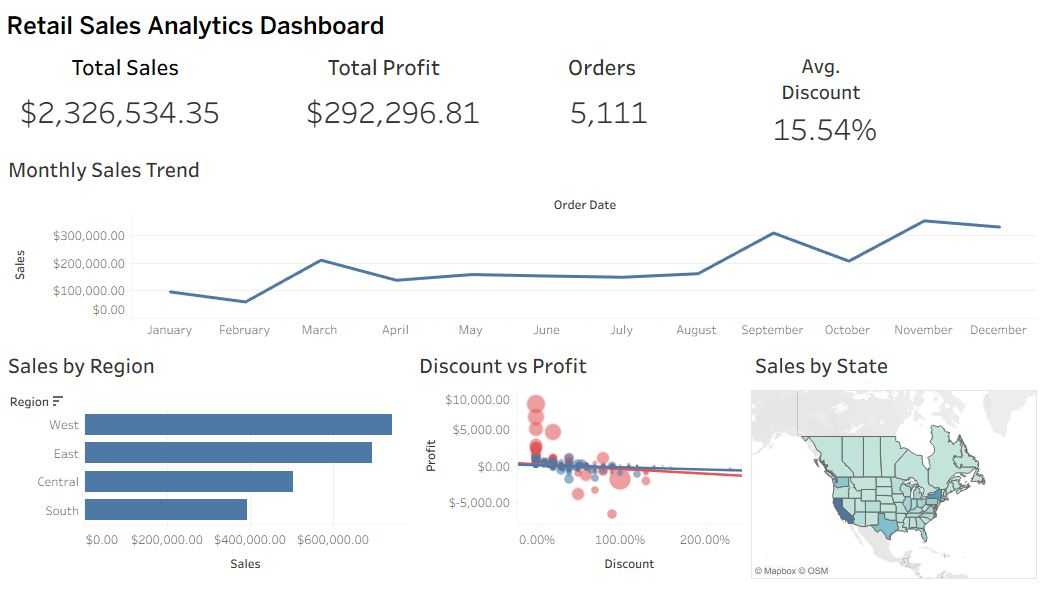

Layout of this report page (visuals, bound fields, positions):
{"tool":"tableau","page":{"name":"Dashboard 3","canvas":[1000,1000],"units":"permille","ordinal":0},"visuals":[{"type":"title","box":[7.4,13.5,955.9,62.5]},{"type":"filter","title":"Sales by Region","param":"[federated.1cxbya21p809c611jwfkw1vmpjc6].[none:Order Year:qk]","box":[963.3,13.5,29.4,116.5]},{"type":"worksheet","title":"KPI-Total Sales","mark":"Automatic","box":[7.4,76,256.7,174]},{"type":"worksheet","title":"KPI-Total Profit","mark":"Automatic","box":[264.1,76,246.6,174]},{"type":"worksheet","title":"KPI-Total Orders","mark":"Automatic","box":[510.7,76,191.9,174]},{"type":"worksheet","title":"Average Discount","mark":"Automatic","box":[702.6,76,260.7,174]},{"type":"filter","title":"Sales by Region","param":"[federated.1cxbya21p809c611jwfkw1vmpjc6].[none:Region:nk]","box":[963.3,130.1,29.4,214.5]},{"type":"worksheet","title":"Monthly Sales Trend","mark":"Line","rows":["Sales"],"cols":["Order Date"],"box":[7.4,250,955.9,331.1]},{"type":"filter","title":"Sales by Region","param":"[federated.1cxbya21p809c611jwfkw1vmpjc6].[none:Segment:nk]","box":[963.3,344.6,29.4,182.4]},{"type":"filter","title":"Sales by Region","param":"[federated.1cxbya21p809c611jwfkw1vmpjc6].[none:Category:nk]","box":[963.3,527,29.4,182.4]},{"type":"worksheet","title":"Sales by Region","mark":"Automatic","rows":["Region"],"cols":["Sales"],"box":[7.4,581.1,377.6,405.4]},{"type":"worksheet","title":"Discount vs Profit","mark":"Circle","rows":["Profit"],"cols":["Discount"],"box":[384.9,581.1,308,405.4]},{"type":"worksheet","title":"Sales by State","mark":"Multipolygon","box":[692.9,581.1,270.4,405.4]}]}

Visuals, with their boxes on the dashboard's canvas, which has no fixed pixel size, in thousandths of its width and height (x1, y1, x2, y2). These are canvas units, not pixel positions in the 1045x590 screenshot, which may show the page scaled, cropped or inside an application window:
title: (left=7, top=14, right=963, bottom=76)
"Sales by Region" filter: (left=963, top=14, right=993, bottom=130)
"KPI-Total Sales" worksheet: (left=7, top=76, right=264, bottom=250)
"KPI-Total Profit" worksheet: (left=264, top=76, right=511, bottom=250)
"KPI-Total Orders" worksheet: (left=511, top=76, right=703, bottom=250)
"Average Discount" worksheet: (left=703, top=76, right=963, bottom=250)
"Sales by Region" filter: (left=963, top=130, right=993, bottom=345)
"Monthly Sales Trend" worksheet (Line marks): (left=7, top=250, right=963, bottom=581)
"Sales by Region" filter: (left=963, top=345, right=993, bottom=527)
"Sales by Region" filter: (left=963, top=527, right=993, bottom=709)
"Sales by Region" worksheet: (left=7, top=581, right=385, bottom=986)
"Discount vs Profit" worksheet (Circle marks): (left=385, top=581, right=693, bottom=986)
"Sales by State" worksheet (Multipolygon marks): (left=693, top=581, right=963, bottom=986)
